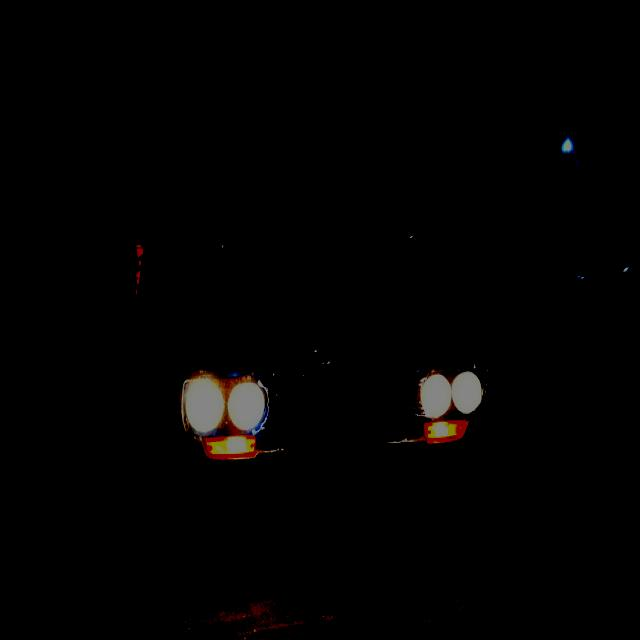Car: (138, 182, 490, 547)
